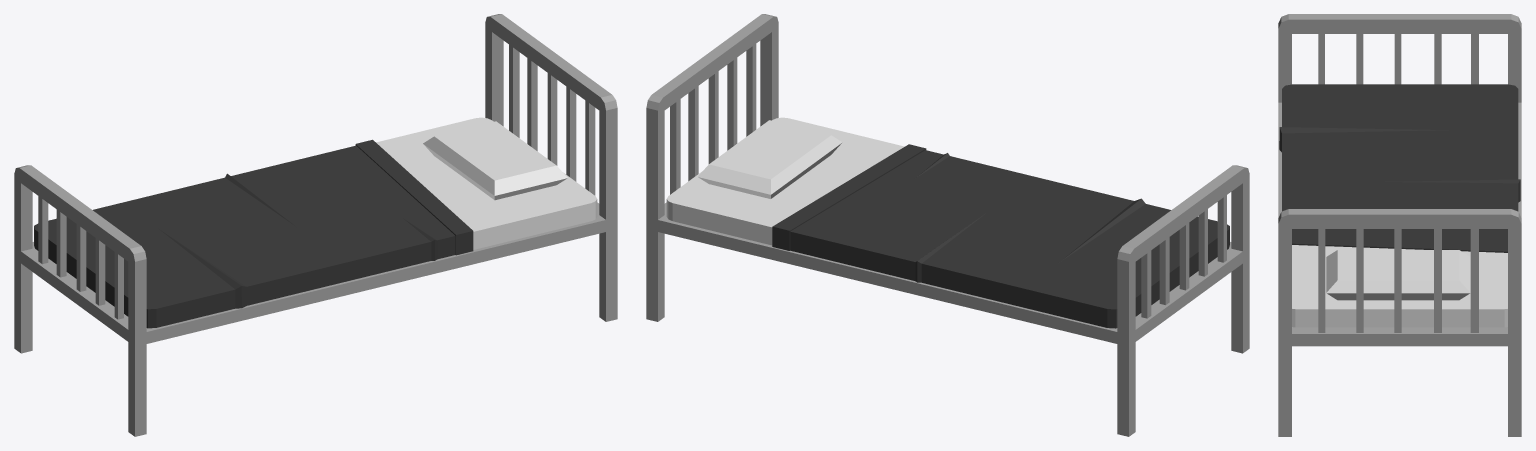
File: P_Jail_Bed.fbx
3 views of the same model, side by side, from view 1: azimuth 30°, elevation 25°; view 2: azimuth 150°, elevation 25°; view 3: azimuth 270°, elevation 25° (orthographic).
Visible parts, largest first — view 1: P_Jail_Bed; view 2: P_Jail_Bed; view 3: P_Jail_Bed.
Boxes of the visible parts, x1,y1,x2,y2 form: P_Jail_Bed: (14,14,617,436); P_Jail_Bed: (646,14,1249,436); P_Jail_Bed: (1278,14,1521,436).
Bounding box in the file's own units: 1414 × 612 × 618.
